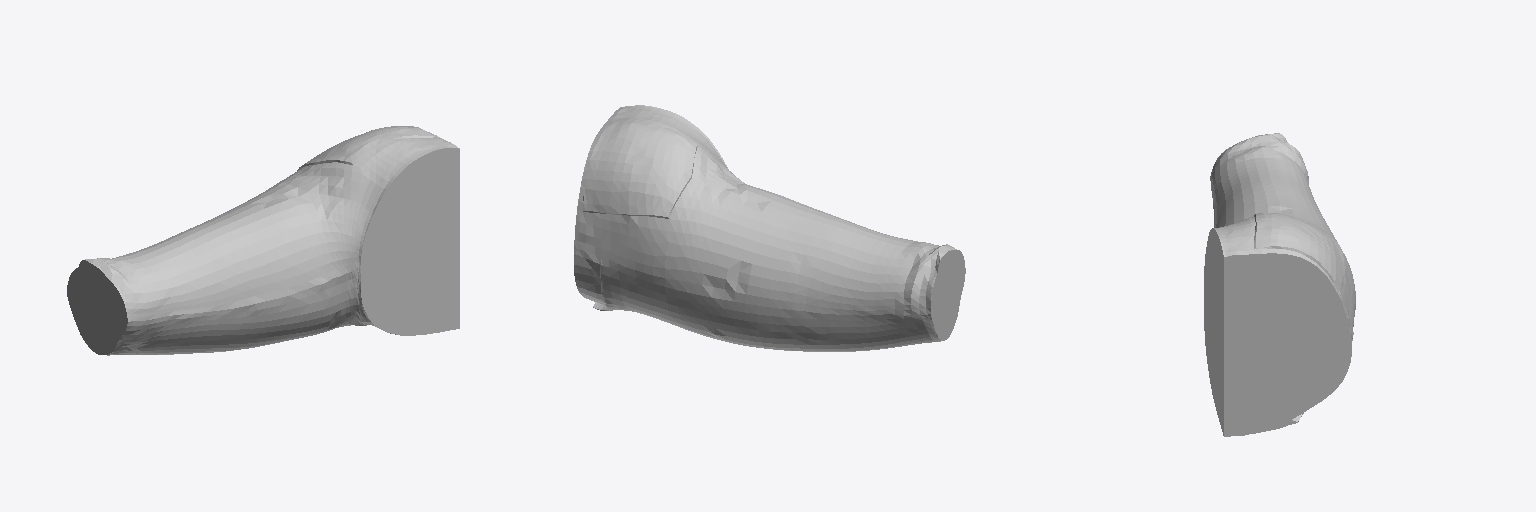
File: thigh_l.obj
3 renders of one model, left to right at view 1: azimuth 30°, elevation 25°; view 2: azimuth 150°, elevation 25°; view 3: azimuth 270°, elevation 25°, orthographic.
Visible parts, largest first — view 1: thigh_l_1_Legs_UV1.016; view 2: thigh_l_1_Legs_UV1.016; view 3: thigh_l_1_Legs_UV1.016.
Part boxes in pixels (left/top/right/bottom): thigh_l_1_Legs_UV1.016: left=67, top=126, right=459, bottom=355; thigh_l_1_Legs_UV1.016: left=574, top=105, right=965, bottom=351; thigh_l_1_Legs_UV1.016: left=1204, top=133, right=1355, bottom=436.
Size of the model in its own units: 0.4384 by 0.2273 by 0.1641.